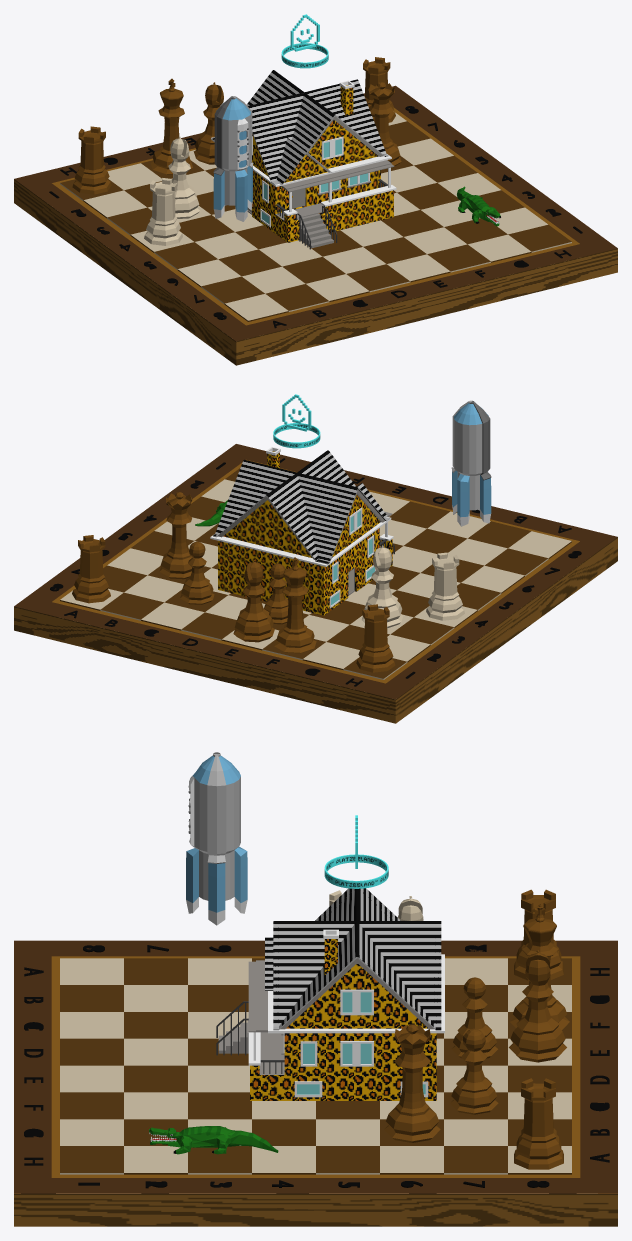
3 renders of one model, top to bottom at view 1: azimuth 30°, elevation 25°; view 2: azimuth 150°, elevation 25°; view 3: azimuth 270°, elevation 25°, orthographic. The views are drawn at different scales.
Parts seen in each view (by area): view 1: Cube.002, Cube.637, OBJRANDOM_ROCKETSHIP, TYPE_PREMIUM, ANIMAL_COCODRILO; view 2: Cube.002, Cube.637, OBJRANDOM_ROCKETSHIP, TYPE_PREMIUM; view 3: Cube.002, Cube.637, OBJRANDOM_ROCKETSHIP, ANIMAL_COCODRILO, TYPE_PREMIUM.
Boxes of the visible parts, <box> form: Cube.002: <box>14,57,617,365</box>; Cube.637: <box>211,70,396,249</box>; OBJRANDOM_ROCKETSHIP: <box>213,96,253,221</box>; TYPE_PREMIUM: <box>281,14,328,68</box>; ANIMAL_COCODRILO: <box>457,186,500,226</box>; Cube.002: <box>14,444,617,723</box>; Cube.637: <box>210,447,394,615</box>; OBJRANDOM_ROCKETSHIP: <box>451,400,491,526</box>; TYPE_PREMIUM: <box>273,394,320,448</box>; Cube.002: <box>14,889,617,1226</box>; Cube.637: <box>216,888,444,1100</box>; OBJRANDOM_ROCKETSHIP: <box>186,752,247,925</box>; ANIMAL_COCODRILO: <box>149,1126,278,1154</box>; TYPE_PREMIUM: <box>324,815,388,888</box>.
Bounding box in the file's own units: 3981 × 2128 × 4012.
29 materials, 5 textured.
